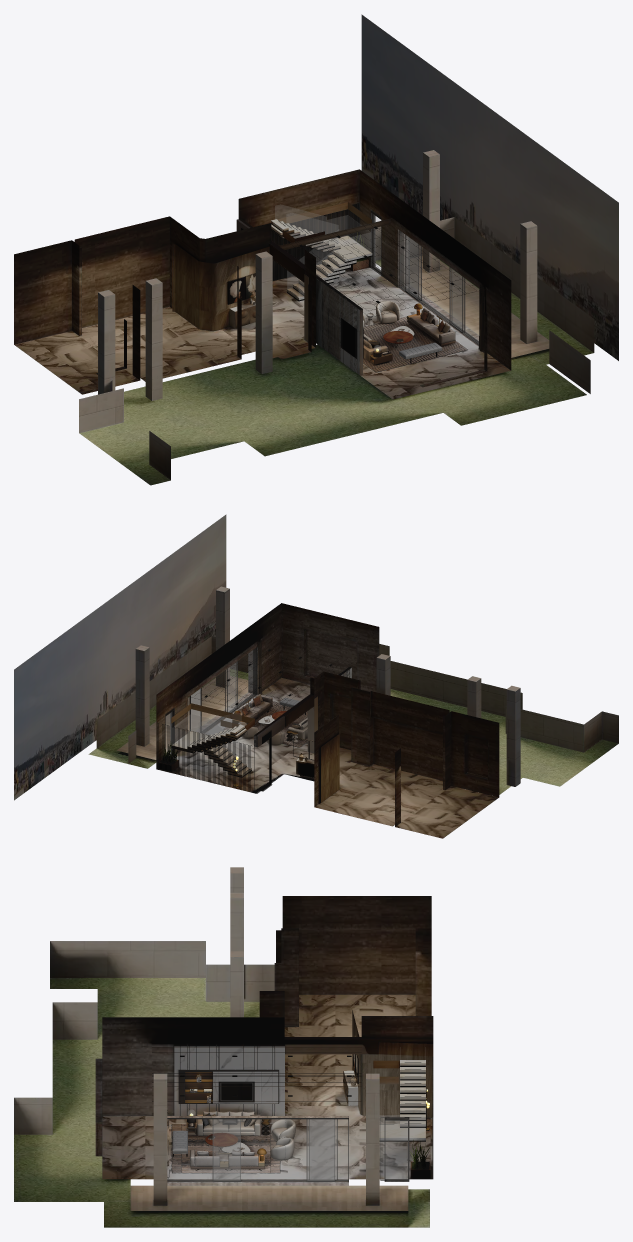
The model's file is ht_living_room.glb.
3 renders of one model, top to bottom at view 1: azimuth 30°, elevation 25°; view 2: azimuth 150°, elevation 25°; view 3: azimuth 270°, elevation 25°, orthographic. The views are drawn at different scales.
Visible parts, largest first — view 1: _1, Line001, Rectangle004, Rectangle002, 对象001, Sphere003, Line007, Rectangle003, Rectangle007, Rectangle2059395203, Object494, Rectangle009 (+4 smaller); view 2: Line001, _1, Rectangle002, 对象001, Rectangle004, Sphere003, Rectangle009, Rectangle003, Object494, Rectangle2059395203, Line007, Line2029251506 (+4 smaller); view 3: Line001, Rectangle004, 对象001, Rectangle002, Rectangle003, Rectangle007, Sphere003, Line007, Rectangle2059395203, Object494, Line2029251506, Obj3d66-540888-6-675 (+7 smaller).
Part boxes in pixels (left/top/right/bottom): _1: left=361, top=14, right=618, bottom=360; Line001: left=14, top=169, right=511, bottom=387; Rectangle004: left=79, top=259, right=593, bottom=485; Rectangle002: left=79, top=150, right=594, bottom=479; 对象001: left=14, top=267, right=510, bottom=399; Sphere003: left=275, top=204, right=463, bottom=352; Line007: left=172, top=243, right=269, bottom=331; Rectangle003: left=410, top=255, right=549, bottom=357; Rectangle007: left=304, top=274, right=362, bottom=375; Rectangle2059395203: left=236, top=202, right=391, bottom=282; Object494: left=271, top=219, right=372, bottom=300; Rectangle009: left=271, top=203, right=359, bottom=280; Line001: left=156, top=603, right=499, bottom=826; _1: left=14, top=514, right=226, bottom=800; Rectangle002: left=96, top=586, right=618, bottom=786; 对象001: left=156, top=677, right=498, bottom=838; Rectangle004: left=88, top=669, right=618, bottom=794; Sphere003: left=166, top=662, right=251, bottom=773; Rectangle009: left=157, top=722, right=254, bottom=792; Rectangle003: left=117, top=676, right=248, bottom=759; Object494: left=171, top=724, right=251, bottom=776; Rectangle2059395203: left=171, top=694, right=314, bottom=747; Line007: left=321, top=734, right=339, bottom=802; Line2029251506: left=165, top=647, right=256, bottom=757; Line001: left=95, top=896, right=433, bottom=1185; Rectangle004: left=14, top=978, right=429, bottom=1227; 对象001: left=102, top=994, right=432, bottom=1179; Rectangle002: left=14, top=867, right=379, bottom=1205; Rectangle003: left=130, top=1185, right=408, bottom=1210; Rectangle007: left=174, top=1044, right=284, bottom=1115; Sphere003: left=187, top=1110, right=425, bottom=1180; Line007: left=352, top=1010, right=433, bottom=1117; Rectangle2059395203: left=284, top=1037, right=433, bottom=1084; Object494: left=379, top=1060, right=425, bottom=1140; Line2029251506: left=167, top=1116, right=409, bottom=1181; Obj3d66-540888-6-675: left=171, top=1124, right=280, bottom=1172.
Size of the model in its own units: 21.85 by 7.3 by 22.22.
Materials: 76 (72 with a texture image).
